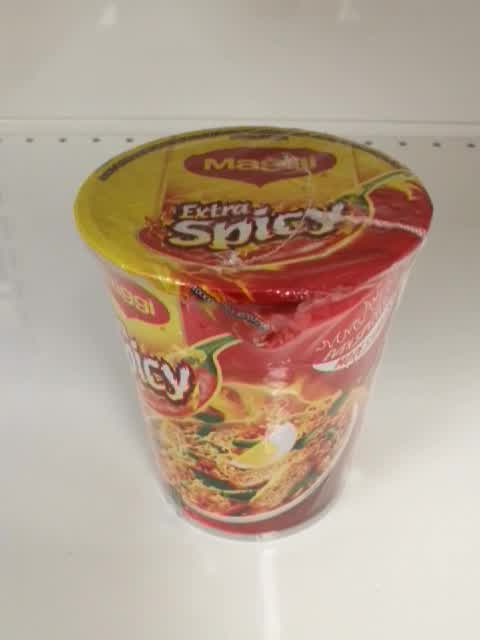maggi: (69, 124, 437, 545)
